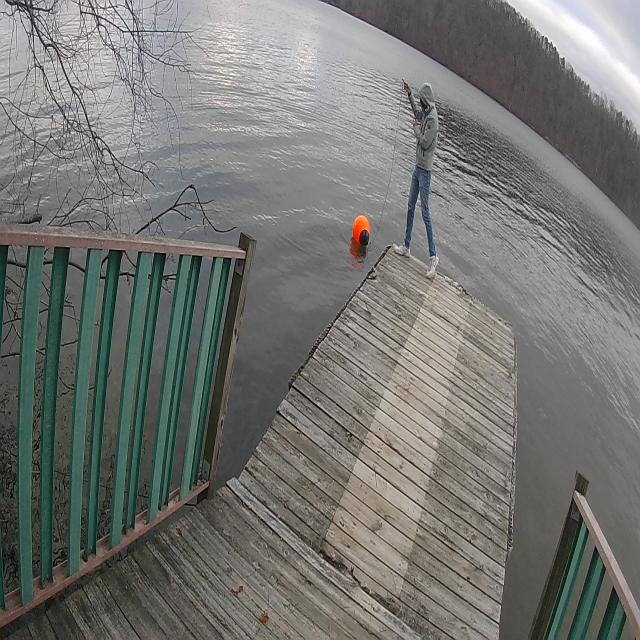Buoy: (349, 205, 373, 257)
